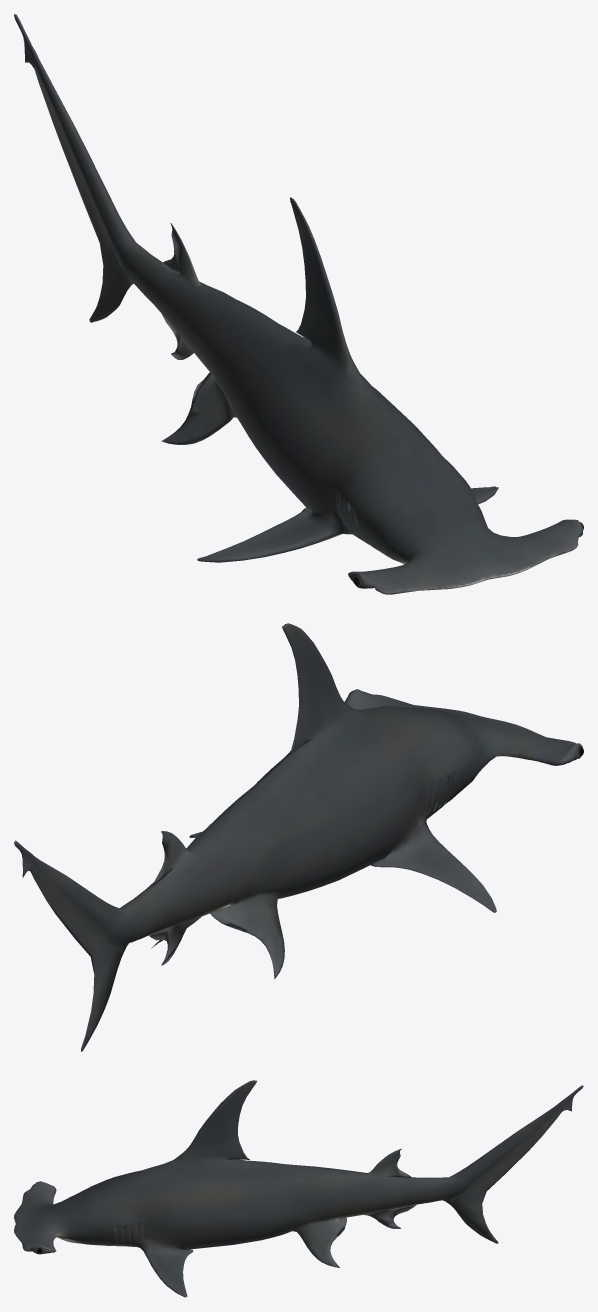
File: hammer.glb
3 views of the same model, one above another, from view 1: azimuth 30°, elevation 25°; view 2: azimuth 150°, elevation 25°; view 3: azimuth 270°, elevation 25° (orthographic). The views are drawn at different scales.
Visible parts, largest first — view 1: Object_7_baked; view 2: Object_7_baked; view 3: Object_7_baked.
Boxes of the visible parts, box(x1,y1,x2,y2) form: Object_7_baked: box(14, 14, 582, 594); Object_7_baked: box(14, 623, 582, 1051); Object_7_baked: box(14, 1080, 583, 1297).
Bounding box in the file's own units: 1.39 × 1.26 × 3.76.
2 materials, 2 textured.
